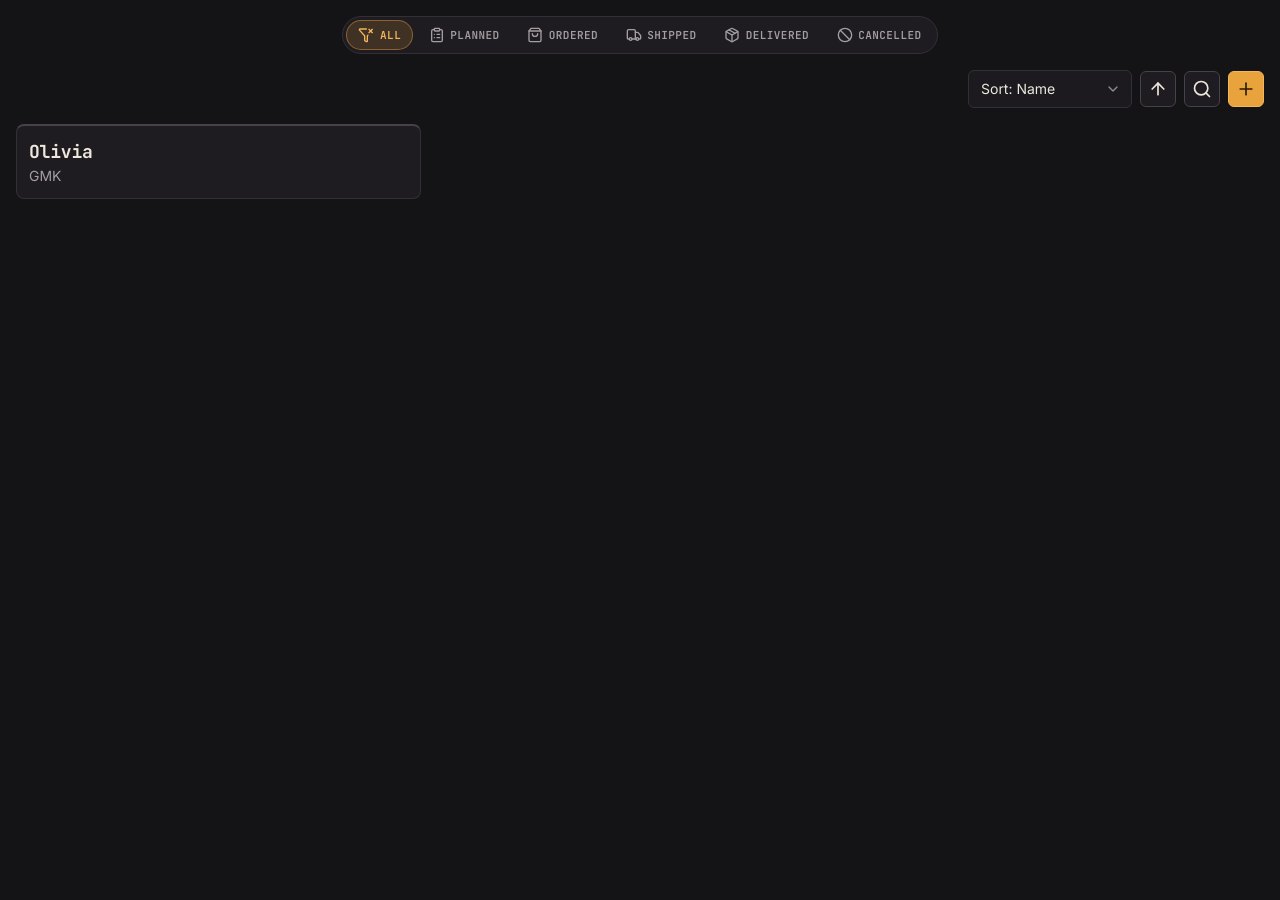
keycap sets page › asks before closing a set form with unsaved edits
Click the button "Olivia GMK": (61, 152) [16, 124, 421, 199]
(page scrolled)
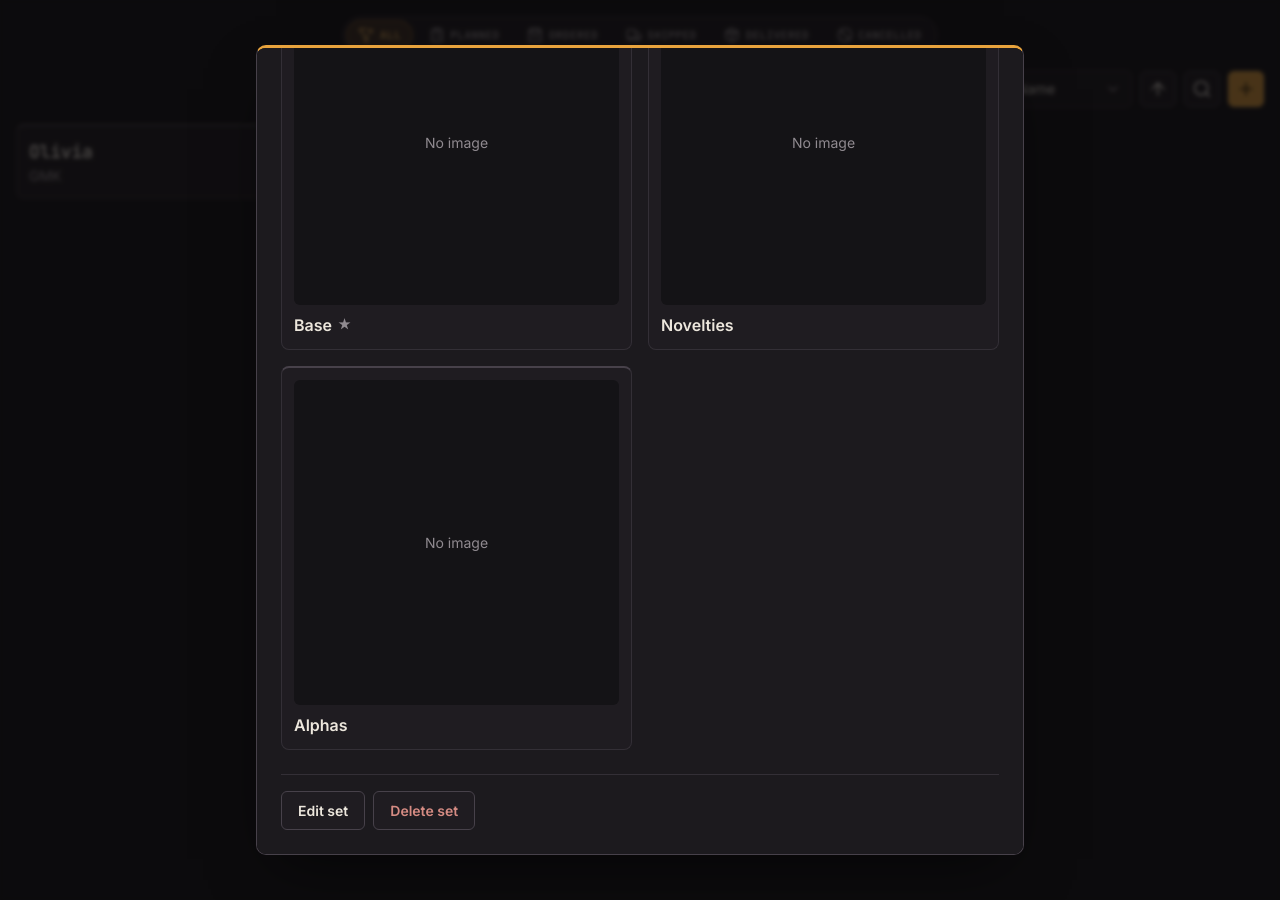
Click the button "Edit set": (323, 810) [281, 791, 365, 830]
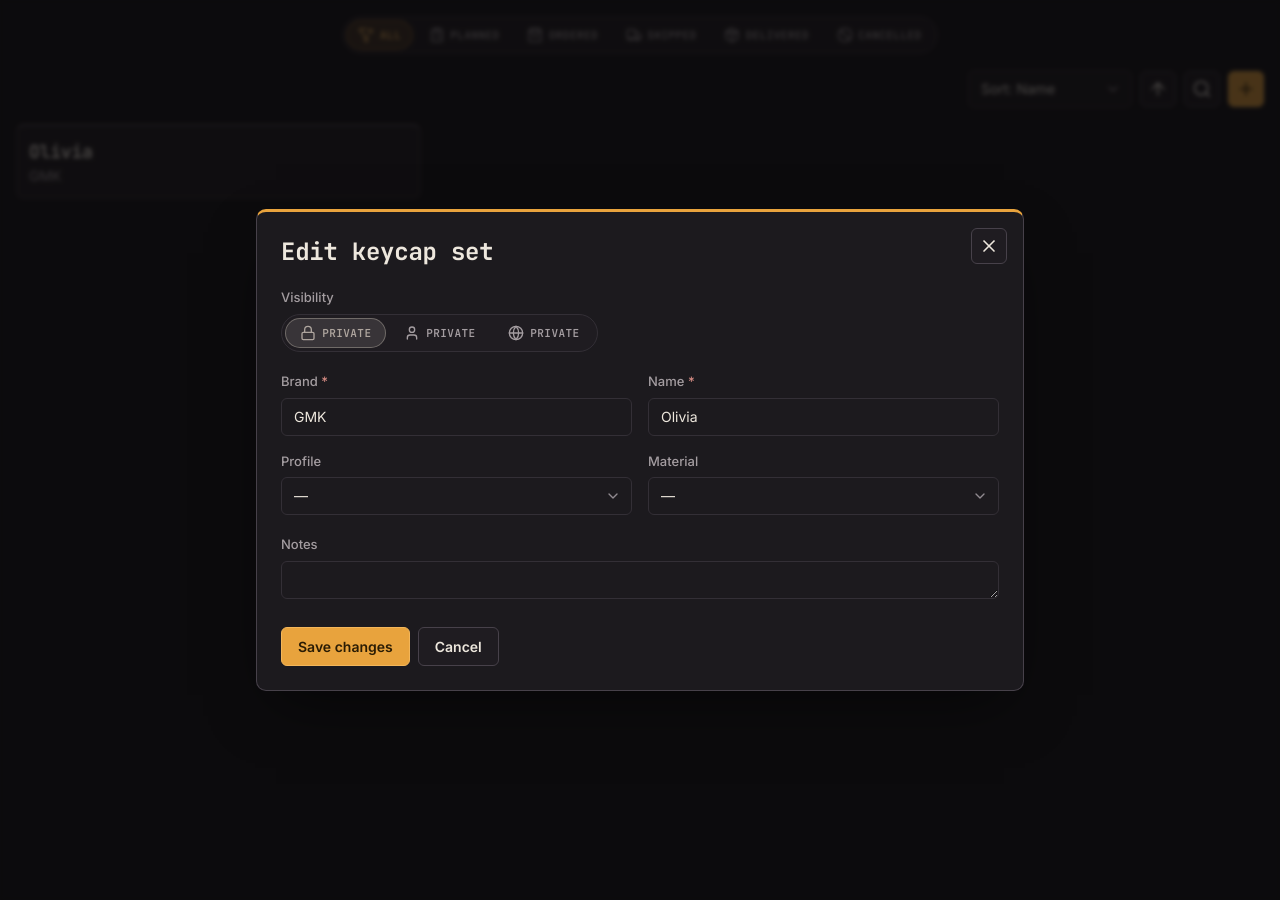
Replace the text in the field labelled "Name *" with "Olivia R2": (824, 416) [648, 398, 999, 436]
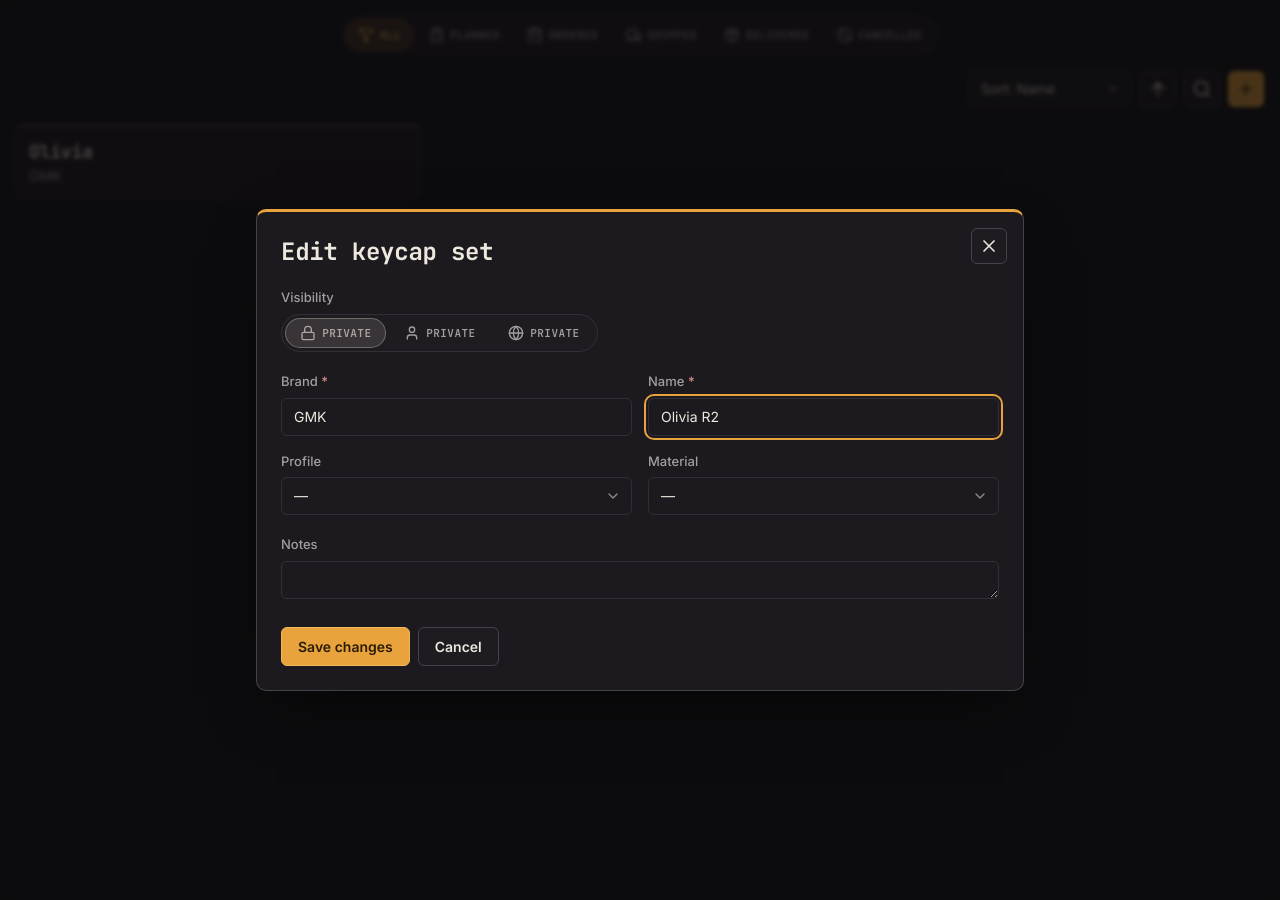
Press Escape
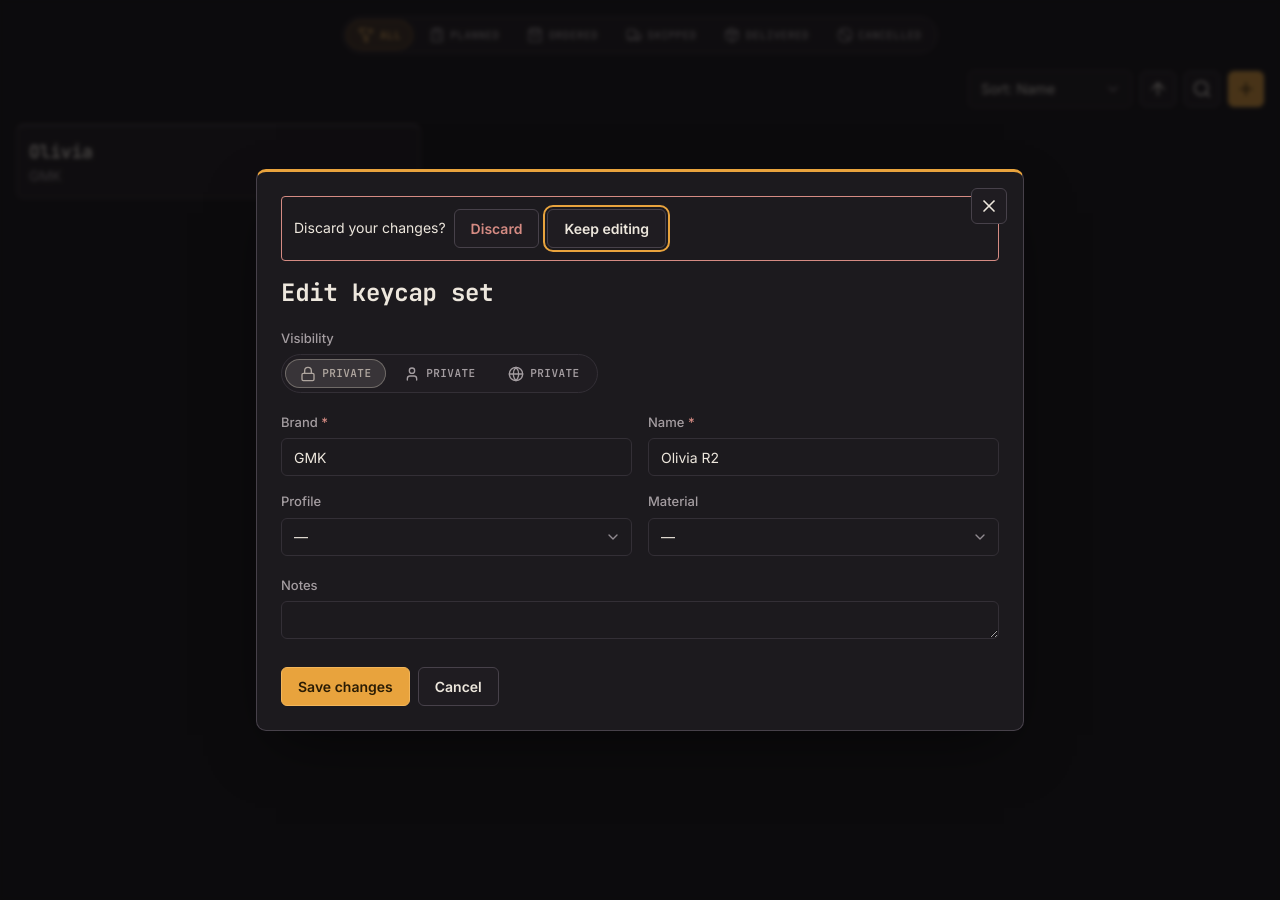
Check: the message "Discard your changes?" is shown, box [294, 218, 446, 238]
